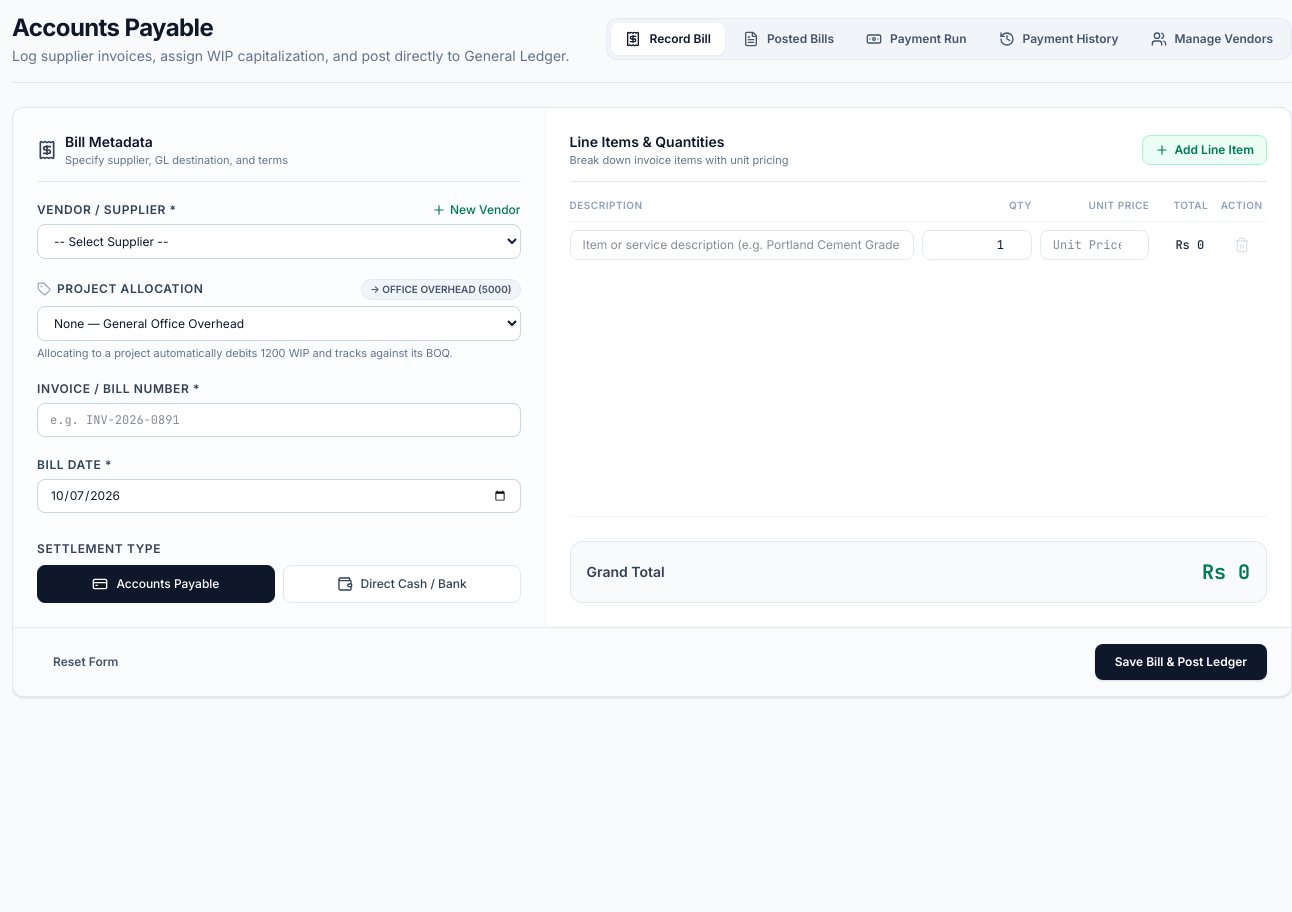
Test: Accounts Payable Page (Screens 5 & 7) › Record Bill Panel (Screen 5) › shows WIP routing indicator when project is selected and slate overhead when none selected
The width and height of the screenshot is (1292, 912).
Expected: the text with test id "wip-routing-badge" shows "Office Overhead (5000)", [370,282,512,294]
# Select project Wadaan Heights
Select "[WHT] Wadaan Heights" in the dropdown named "Project Allocation": (279, 323) [37,306,520,340]
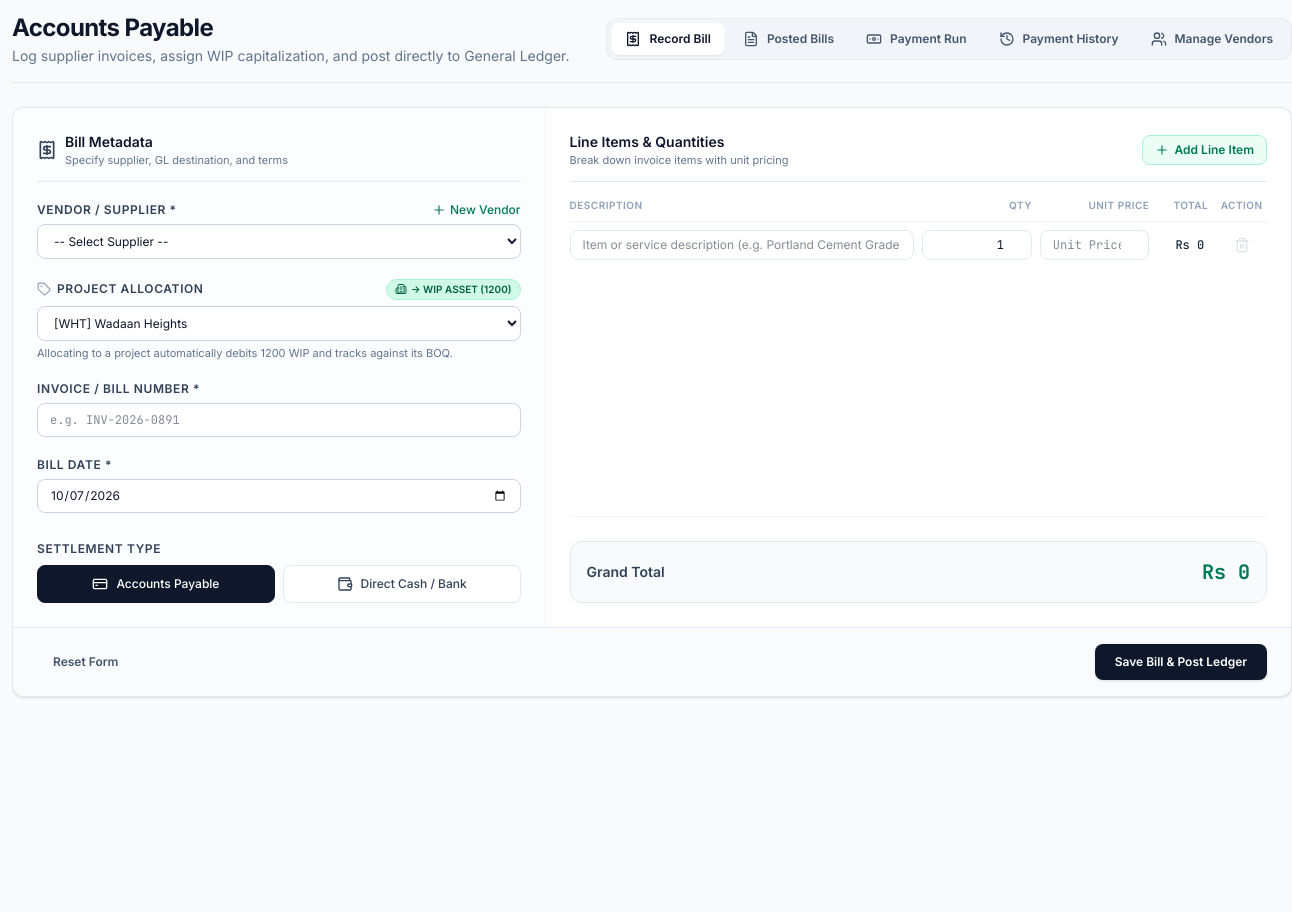
Now the element with test id "wip-routing-badge" shows "WIP Asset (1200)", box [411,282,512,294]
